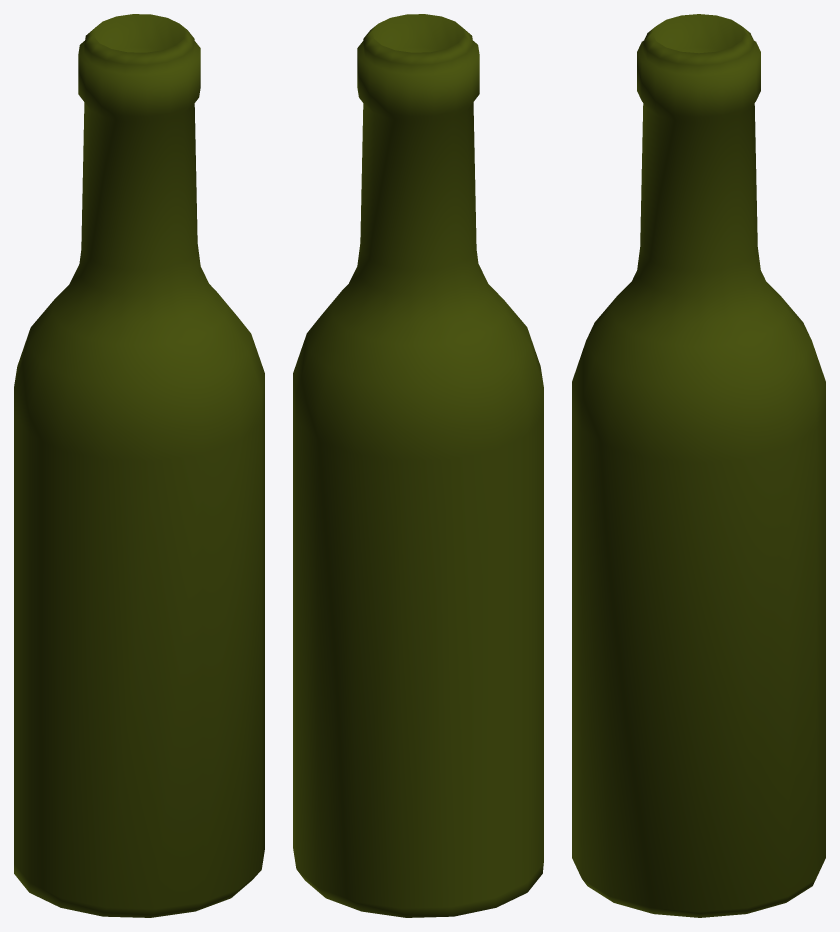
The model's file is bottle 1.fbx.
The picture shows the model from 3 angles, left to right: view 1: azimuth 30°, elevation 25°; view 2: azimuth 150°, elevation 25°; view 3: azimuth 270°, elevation 25°; orthographic projection.
Parts seen in each view (by area): view 1: bottle; view 2: bottle; view 3: bottle.
Part boxes in pixels (box(x1,y1,x2,y2)): bottle: box(14, 14, 264, 917); bottle: box(293, 14, 543, 917); bottle: box(572, 14, 825, 917).
Size of the model in its own units: 89.33 by 328 by 89.3.
